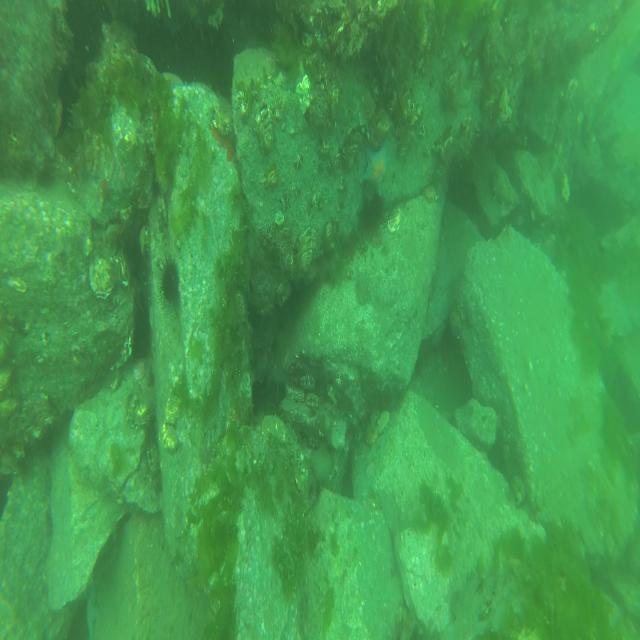echinus: (357, 191, 387, 238), (156, 258, 181, 309)
holothurian: (492, 159, 521, 215)
starfish: (359, 139, 392, 195)
